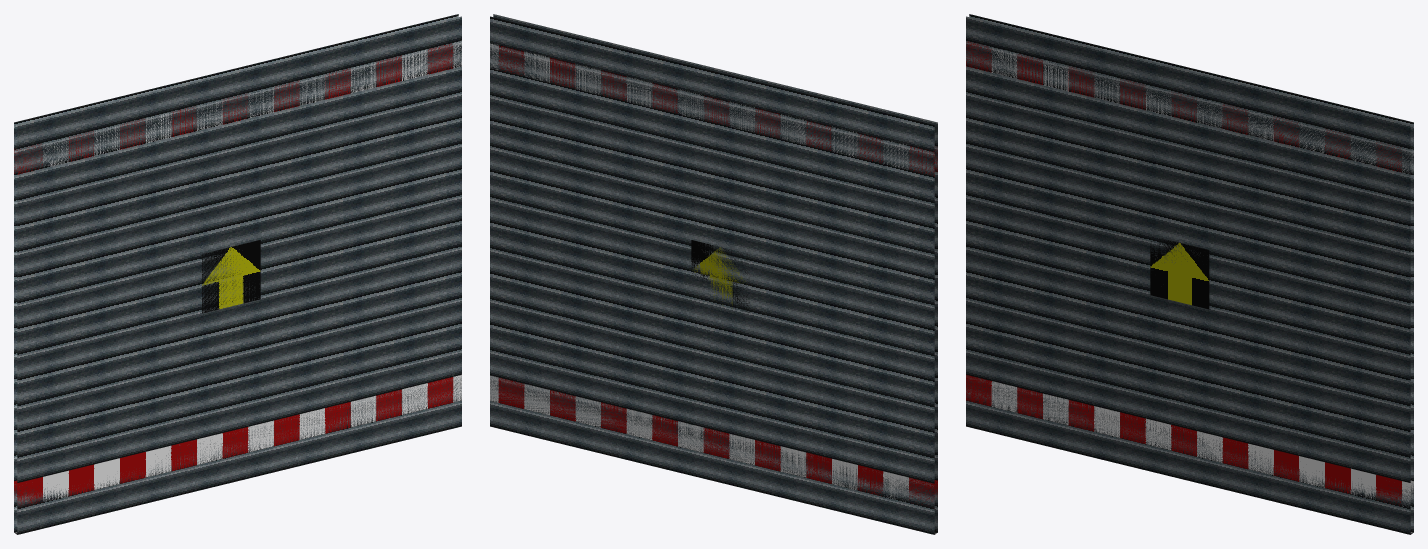
File: primary_115.glb
3 views of the same model, side by side, from view 1: azimuth 30°, elevation 25°; view 2: azimuth 150°, elevation 25°; view 3: azimuth 330°, elevation 25° (orthographic).
Visible parts, largest first — view 1: Object; view 2: Object; view 3: Object.
Boxes of the visible parts, x1,y1,x2,y2 form: Object: (14, 14, 461, 534); Object: (490, 14, 937, 534); Object: (966, 14, 1413, 534).
Size of the model in its own units: 3.93 by 3.47 by 0.0518.
Materials: 6 (6 with a texture image).
